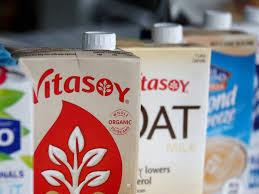cardboard: (20, 48, 140, 193), (123, 47, 209, 192), (204, 34, 258, 192)
